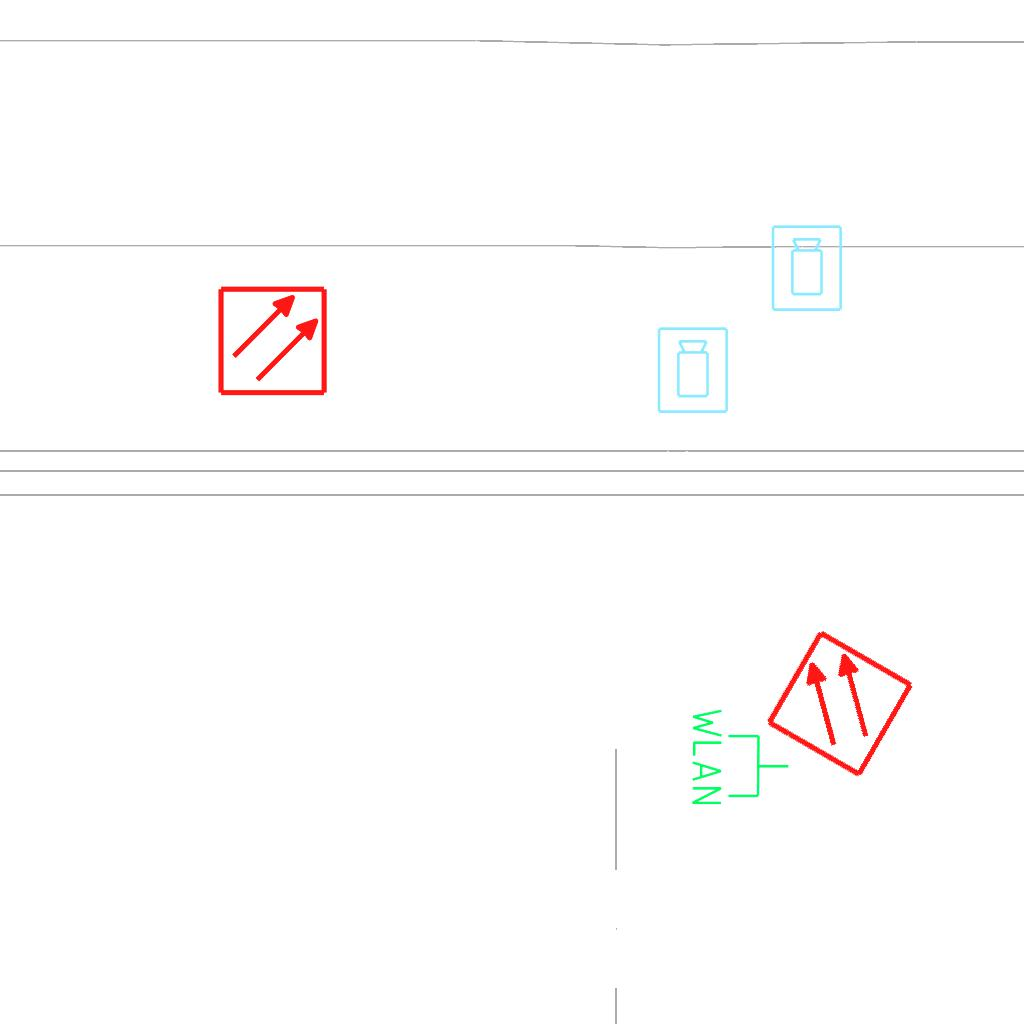KFO_Kamera_mit_Festobjektiv: (655, 325, 732, 416), (769, 223, 846, 314)
RMO_Rauchmelder_optischer: (762, 626, 917, 781), (216, 284, 329, 397)
WLAN: (688, 704, 792, 809)
